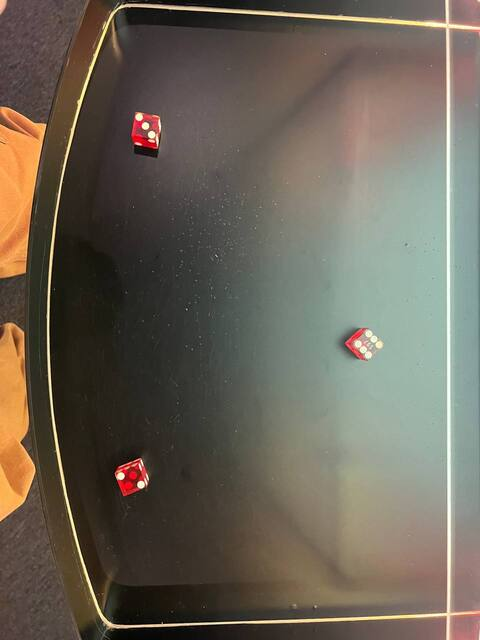six: (348, 325, 388, 362)
three: (128, 109, 161, 141)
two: (113, 464, 146, 501)
